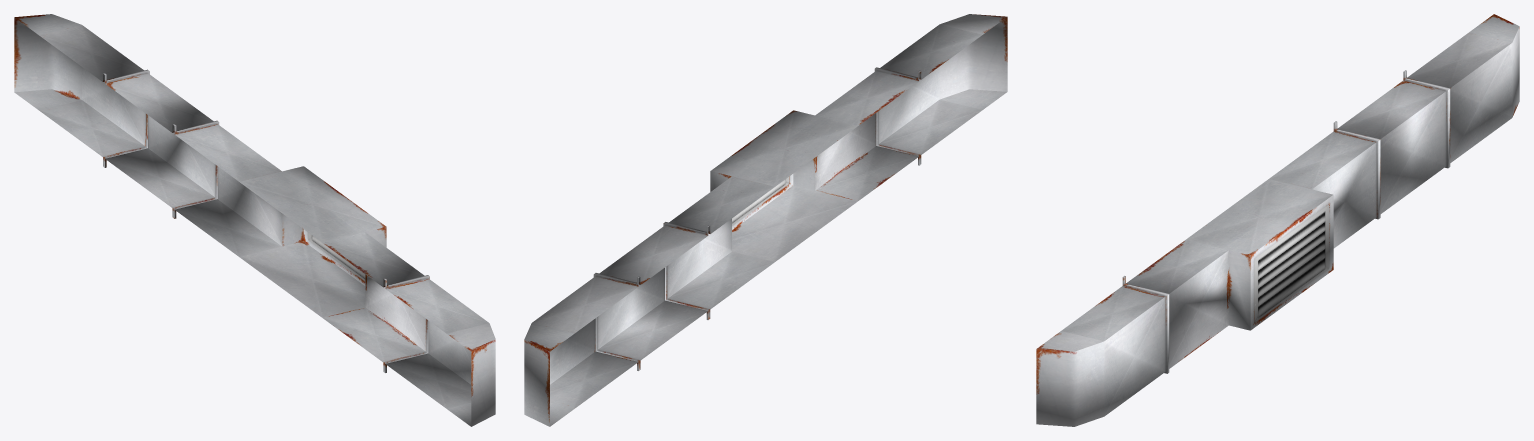
Rendered from vents.fbx.
3 views of the same model, side by side, from view 1: azimuth 30°, elevation 25°; view 2: azimuth 150°, elevation 25°; view 3: azimuth 330°, elevation 25° (orthographic).
Visible parts, largest first — view 1: Cube; view 2: Cube; view 3: Cube.
Part boxes in pixels (x1,y1,x2,y2): Cube: (14, 14, 495, 426); Cube: (524, 14, 1007, 426); Cube: (1036, 14, 1519, 426).
Size of the model in its own units: 0.9 by 1.24 by 11.03.
